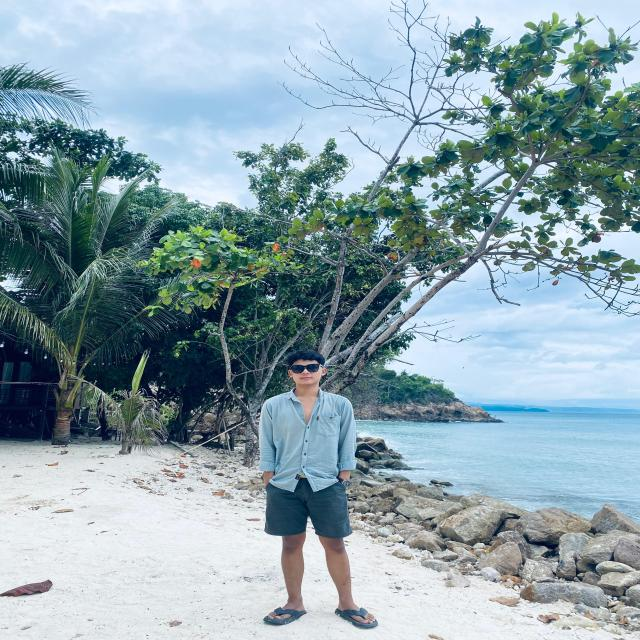nohelmet: (286, 348, 328, 393)
